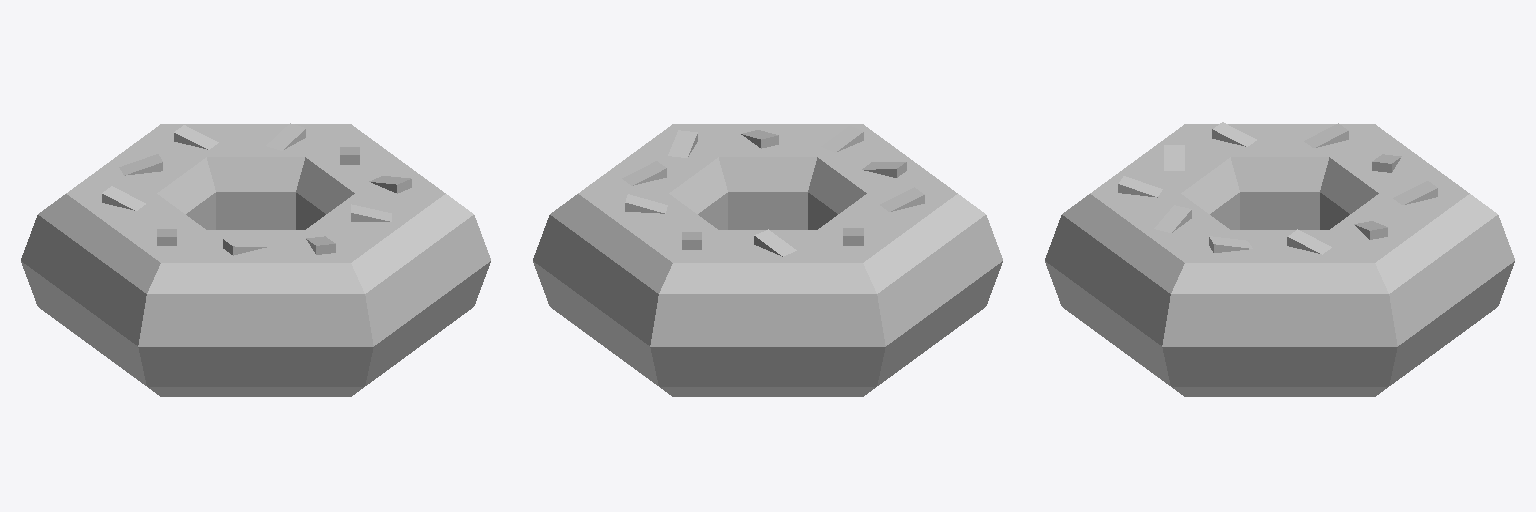
Rendered from donut-sprinkles.obj.
3 views of the same model, side by side, from view 1: azimuth 30°, elevation 25°; view 2: azimuth 150°, elevation 25°; view 3: azimuth 270°, elevation 25° (orthographic).
Parts seen in each view (by area): view 1: donut-sprinkles; view 2: donut-sprinkles; view 3: donut-sprinkles.
Boxes of the visible parts, x1=… form: donut-sprinkles: x1=21, y1=123, x2=490, y2=396; donut-sprinkles: x1=533, y1=124, x2=1002, y2=396; donut-sprinkles: x1=1045, y1=122, x2=1514, y2=396.
Bounding box in the file's own units: 0.2451 × 0.095 × 0.283.